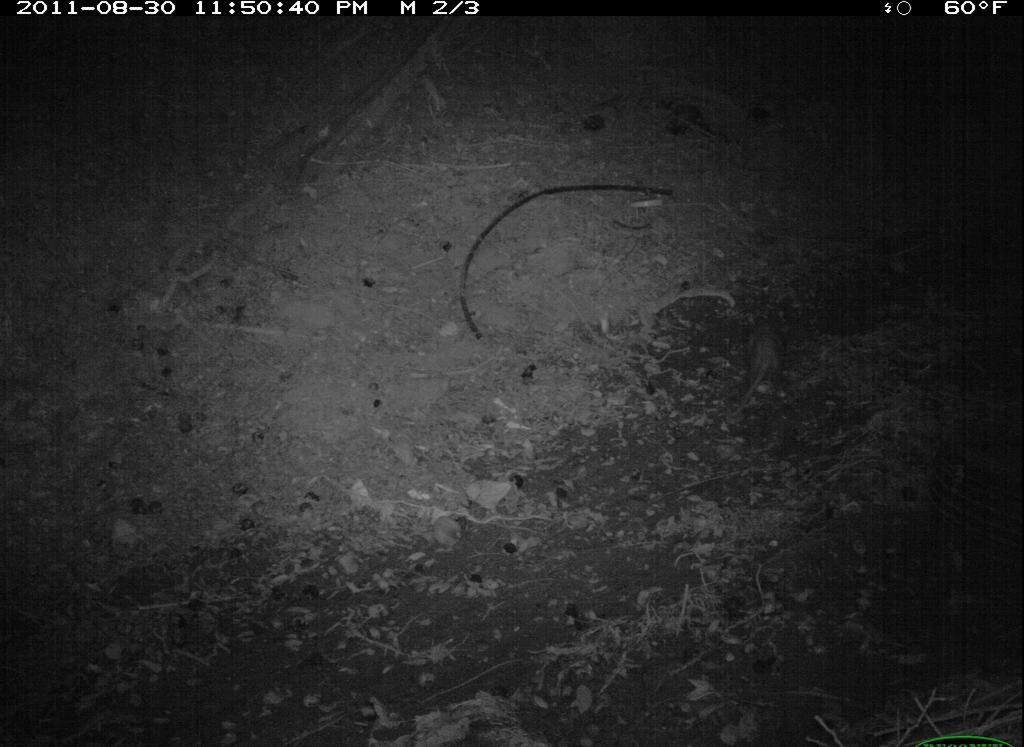opossum: (721, 312, 803, 432)
